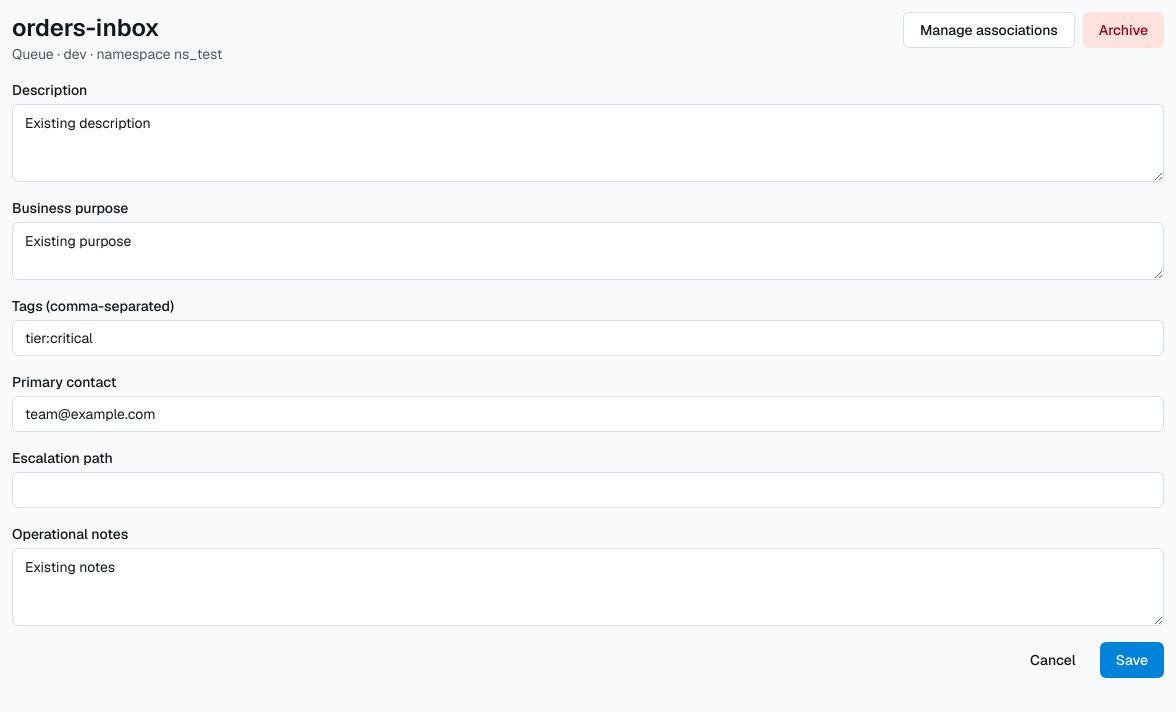
Test: <PublishedEntityEditForm> › shows the conflict banner on 412
Click the button with test id "save-button" at (1132, 660), box x1=1100 y1=642 x2=1164 y2=678
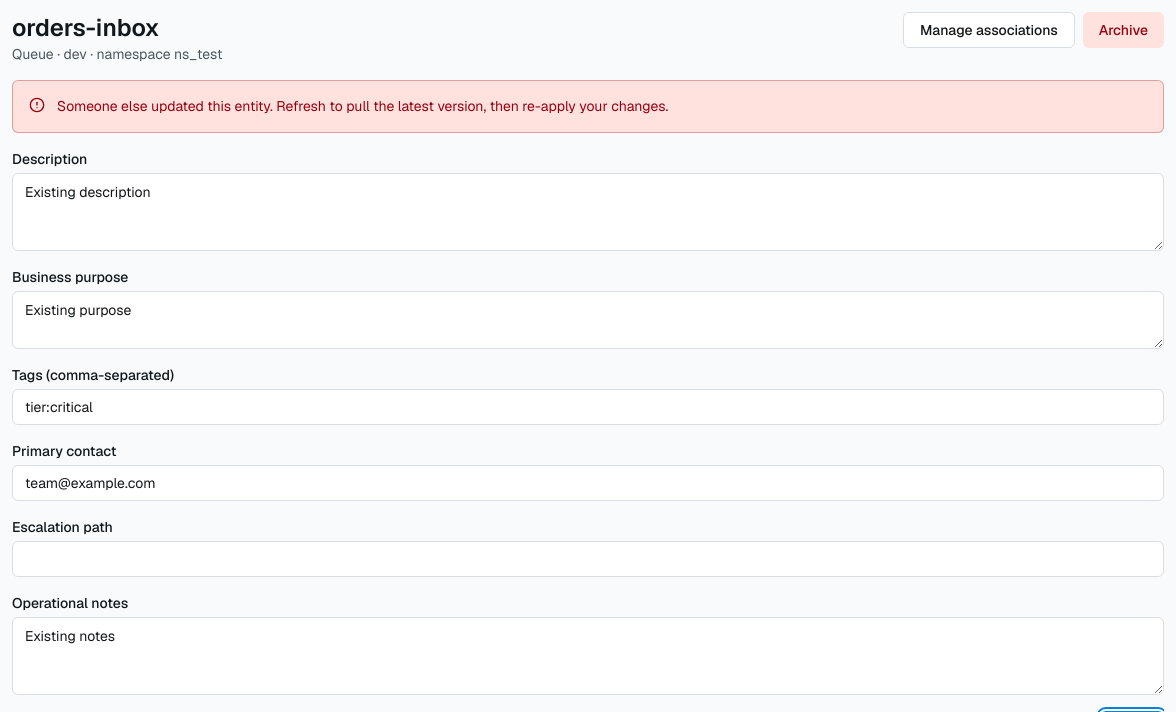
Check: the message with test id "conflict-banner" is shown, box x1=12 y1=80 x2=1164 y2=133
